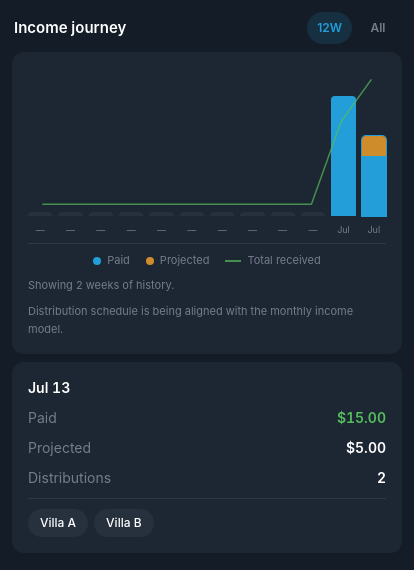
Scenario: IncomeJourneyChart — explorable income over time › tapping a column updates the detail panel
Click the 1st button with test id "journey-bar" at coordinates (343, 156), box [331,96,356,216]
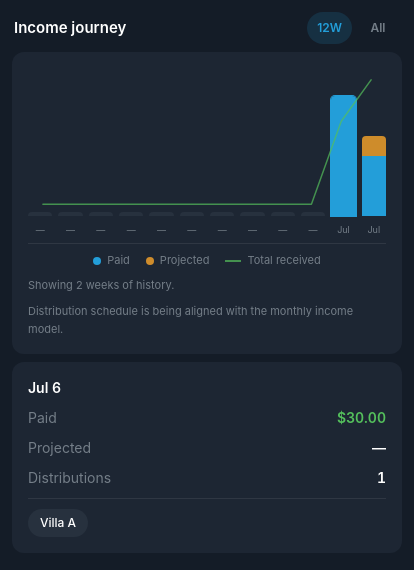
Expected: the element with test id "journey-detail" shows "Villa A", [28,509,88,537]
Result: the element with test id "journey-detail" shows "$30.00" at [337,409,386,426]
Result: the element with test id "journey-detail" no longer shows "Villa B" at [12,362,402,553]
